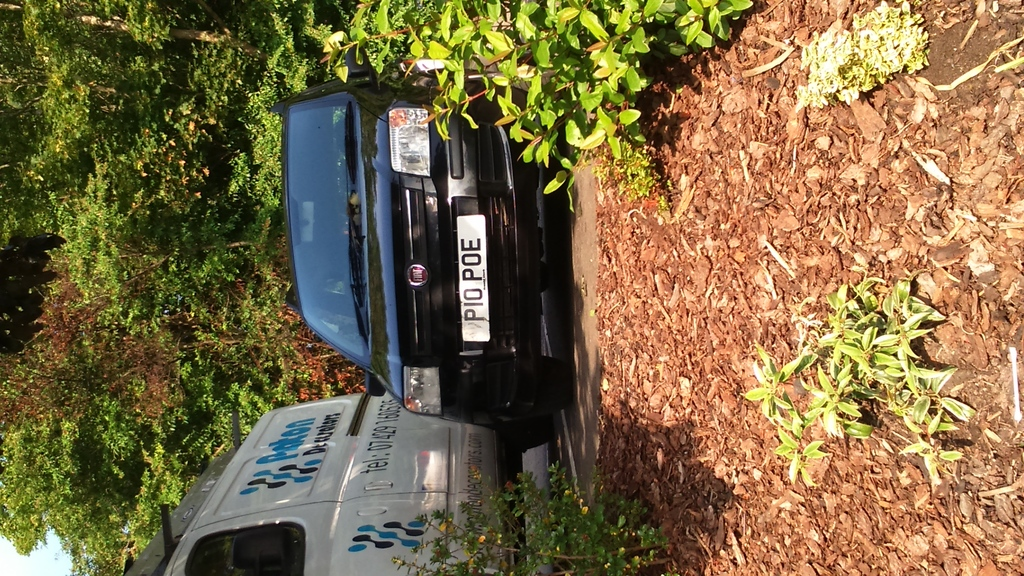Car: (288, 80, 568, 430), (140, 355, 509, 571)
